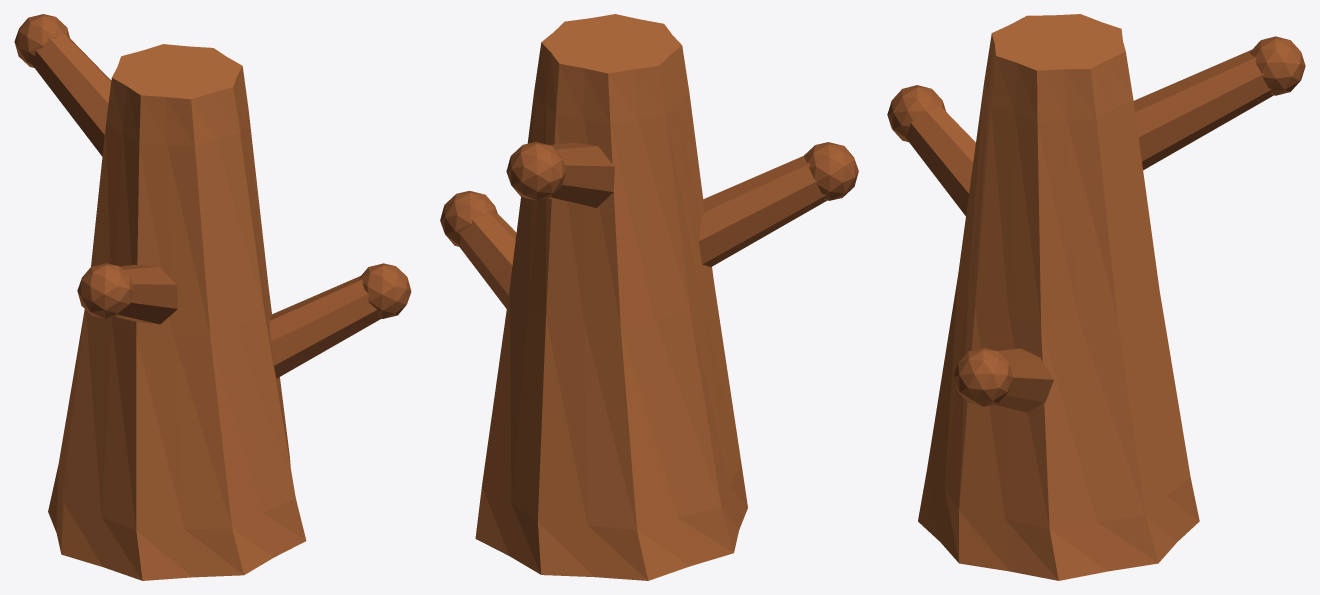
File: PineTrunk.obj
3 renders of one model, left to right at view 1: azimuth 30°, elevation 25°; view 2: azimuth 150°, elevation 25°; view 3: azimuth 270°, elevation 25°, orthographic. The views are drawn at different scales.
Parts seen in each view (by area): view 1: PineTrunk_PineBark, PineTrunk_PineStubs; view 2: PineTrunk_PineBark, PineTrunk_PineStubs; view 3: PineTrunk_PineBark, PineTrunk_PineStubs.
Part boxes in pixels (x1=…): PineTrunk_PineBark: x1=48, y1=44, x2=306, y2=580; PineTrunk_PineStubs: x1=14, y1=14, x2=411, y2=378; PineTrunk_PineBark: x1=475, y1=14, x2=747, y2=580; PineTrunk_PineStubs: x1=440, y1=142, x2=858, y2=308; PineTrunk_PineBark: x1=918, y1=14, x2=1199, y2=580; PineTrunk_PineStubs: x1=887, y1=36, x2=1305, y2=412.
Size of the model in its own units: 2.47 by 3 by 2.37.
